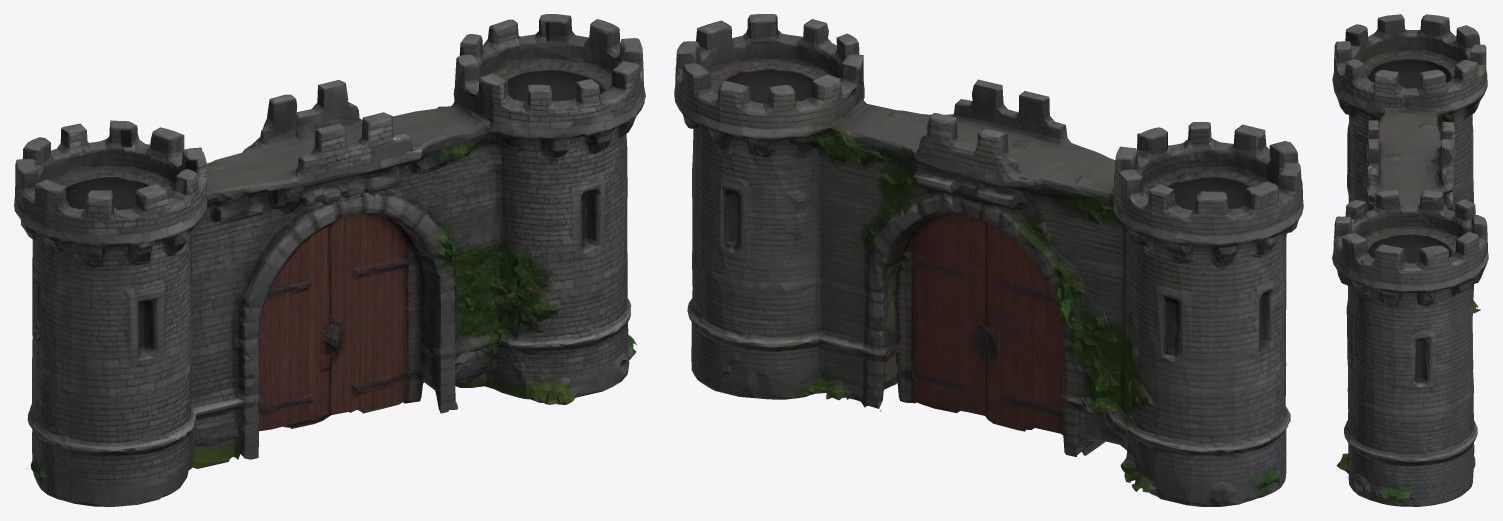
The model's file is gate_wall_ivy_lod0.glb.
The picture shows the model from 3 angles, left to right: view 1: azimuth 30°, elevation 25°; view 2: azimuth 150°, elevation 25°; view 3: azimuth 270°, elevation 25°; orthographic projection. The views are drawn at different scales.
Visible parts, largest first — view 1: gate_wall_ivy_lod0; view 2: gate_wall_ivy_lod0; view 3: gate_wall_ivy_lod0.
Boxes of the visible parts, x1,y1,x2,y2 form: gate_wall_ivy_lod0: (14,14,645,506); gate_wall_ivy_lod0: (674,14,1303,506); gate_wall_ivy_lod0: (1332,14,1488,506).
Size of the model in its own units: 15.99 by 8.01 by 4.37.
Materials: 1 (1 with a texture image).
